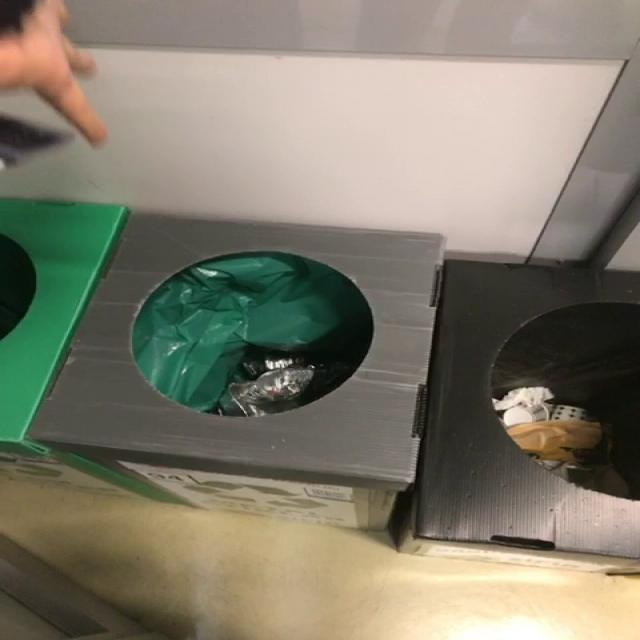bin: (29, 216, 640, 572)
metal: (220, 358, 315, 416)
